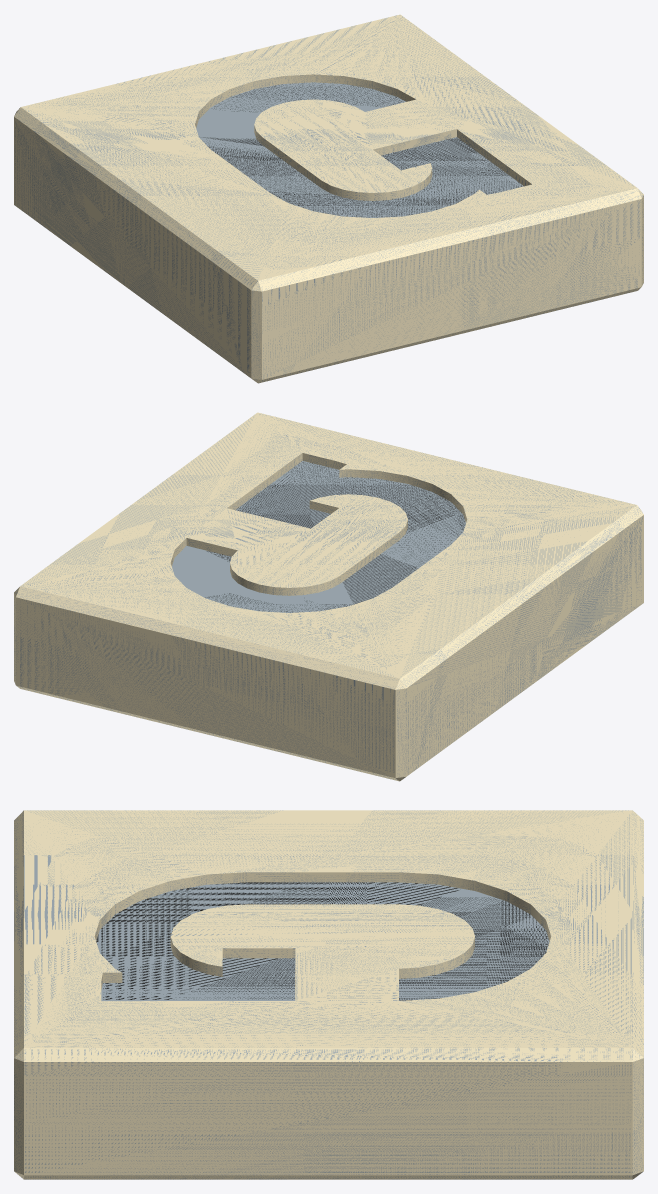
File: Boardgame_Anagram_Tile_G.fbx
The picture shows the model from 3 angles, top to bottom: view 1: azimuth 30°, elevation 25°; view 2: azimuth 150°, elevation 25°; view 3: azimuth 270°, elevation 25°; orthographic projection. The views are drawn at different scales.
Parts seen in each view (by area): view 1: Model; view 2: Model; view 3: Model.
Boxes of the visible parts, x1=… form: Model: x1=14, y1=14, x2=643, y2=383; Model: x1=14, y1=412, x2=643, y2=781; Model: x1=14, y1=810, x2=643, y2=1179.
Bounding box in the file's own units: 195 × 48.83 × 212.
